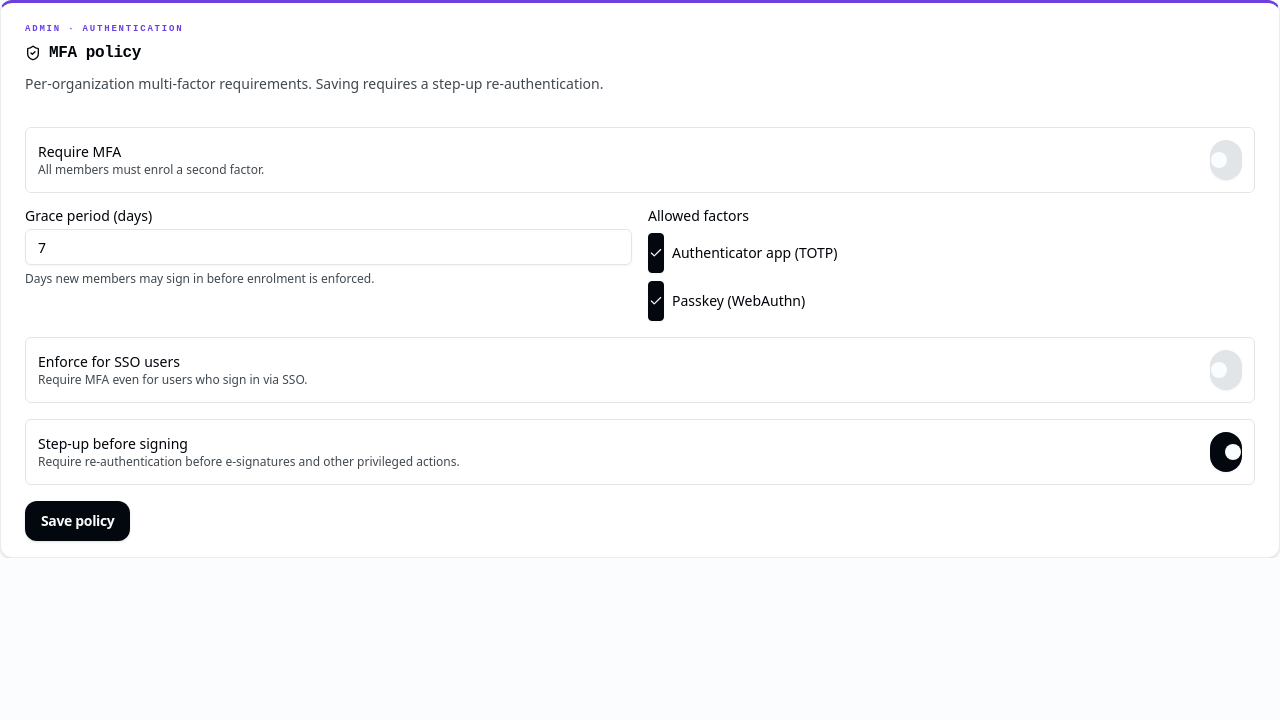
Test: MfaPolicyPanel › rejects a negative grace period without calling the API
Replace the text in the field labelled "Grace period (days)" with "-3" at (328, 247), box [25,229,632,265]
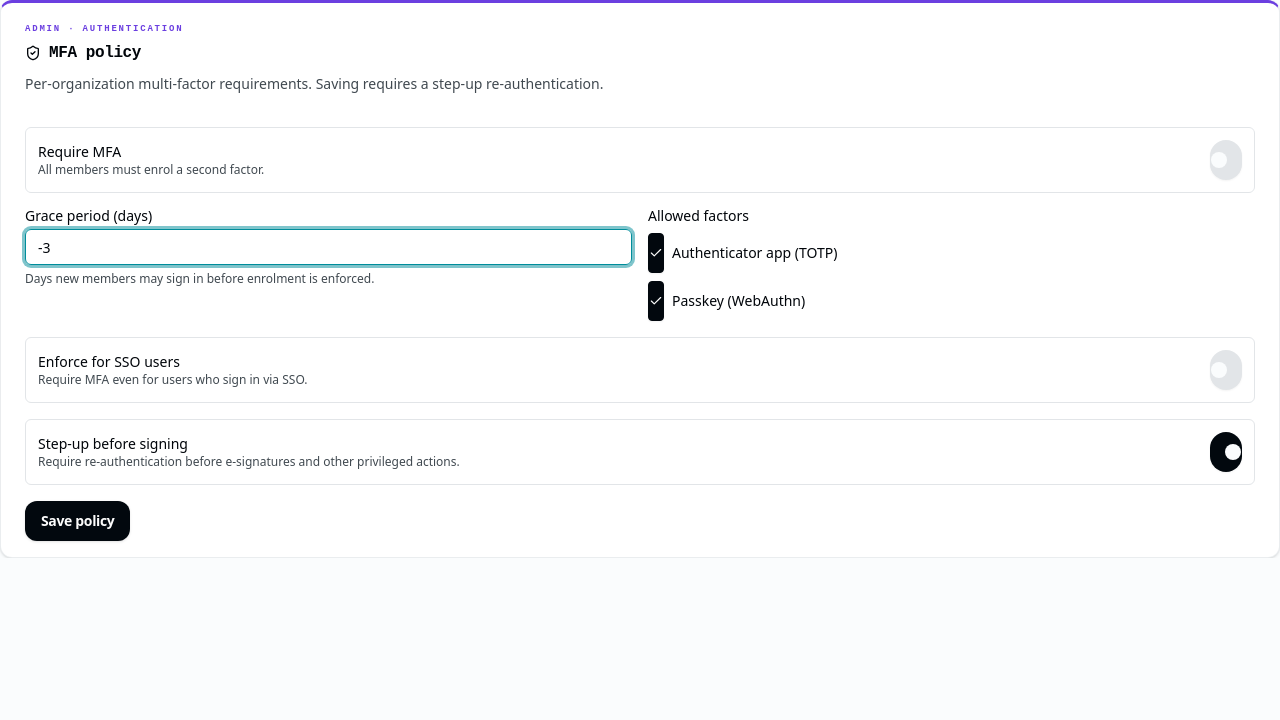
Click the button "Save policy" at (78, 521), box [25,501,130,541]
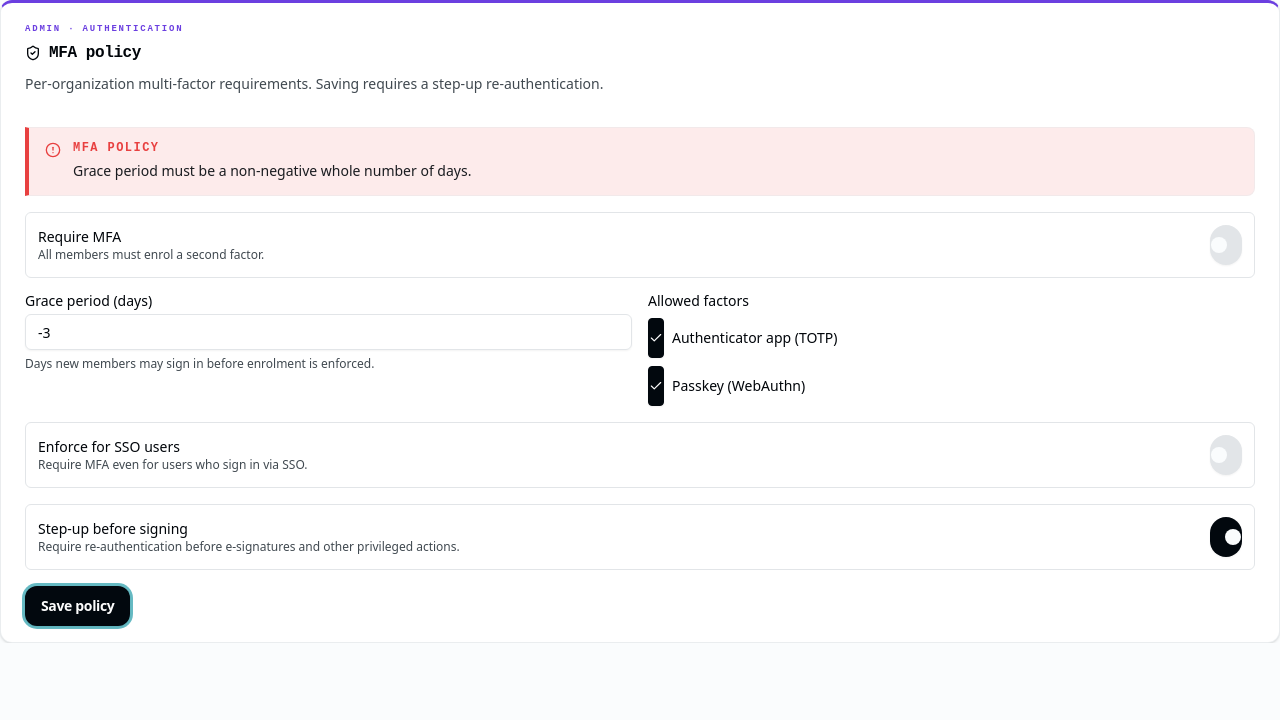
Result: the text "Grace period must be a non-negative whole number of days." is shown at [73,160,471,183]
